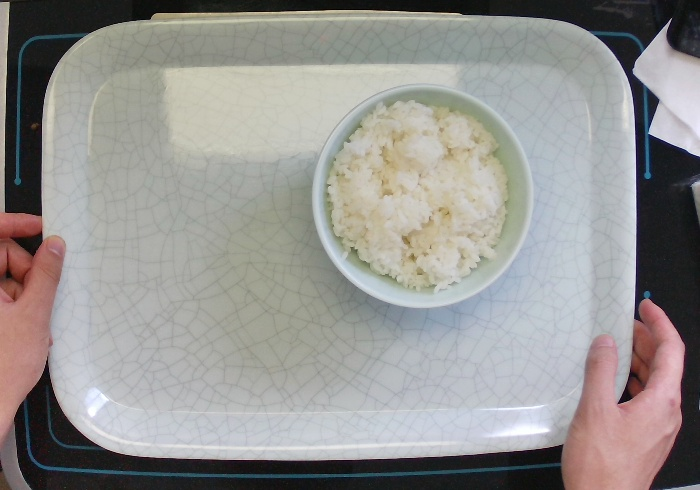JYsf-Fan_Wan: (303, 81, 542, 314)
